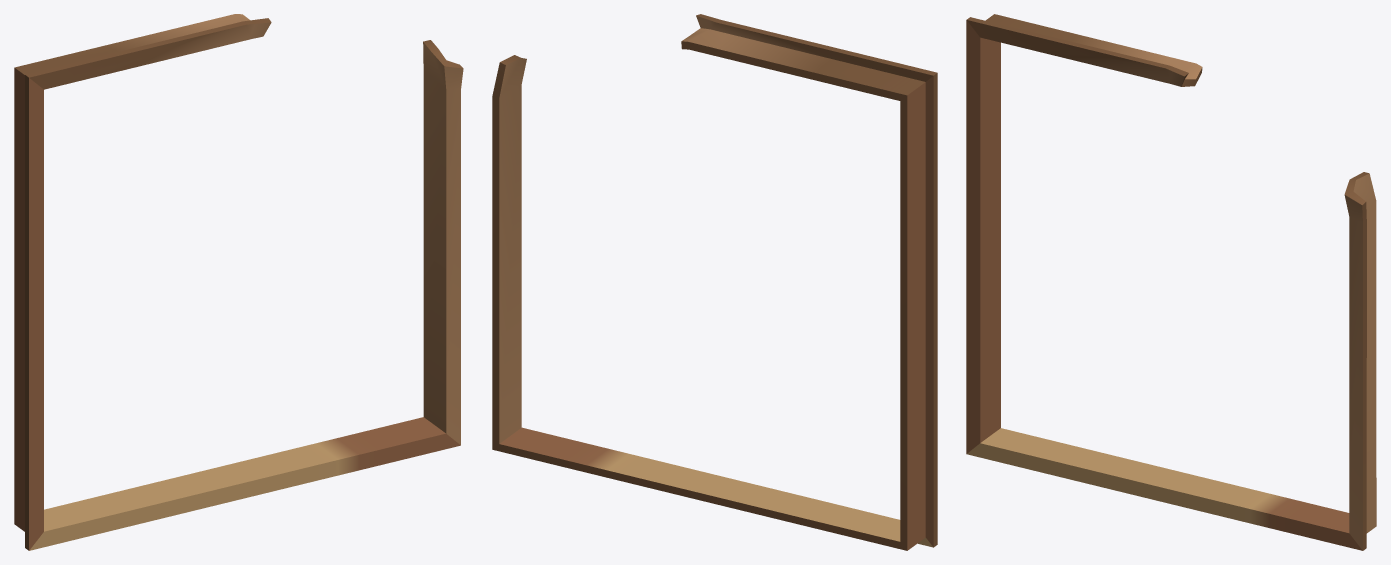
Rendered from DBK_WinBig_Trim_A_90.fbx.
The picture shows the model from 3 angles, left to right: view 1: azimuth 30°, elevation 25°; view 2: azimuth 150°, elevation 25°; view 3: azimuth 330°, elevation 25°; orthographic projection. The views are drawn at different scales.
Visible parts, largest first — view 1: DBK_WinBig_Trim_A_90; view 2: DBK_WinBig_Trim_A_90; view 3: DBK_WinBig_Trim_A_90.
Boxes of the visible parts, x1,y1,x2,y2 form: DBK_WinBig_Trim_A_90: (14, 14, 463, 550); DBK_WinBig_Trim_A_90: (492, 14, 937, 550); DBK_WinBig_Trim_A_90: (966, 14, 1376, 550).
Bounding box in the file's own units: 214 × 224 × 21.44.
